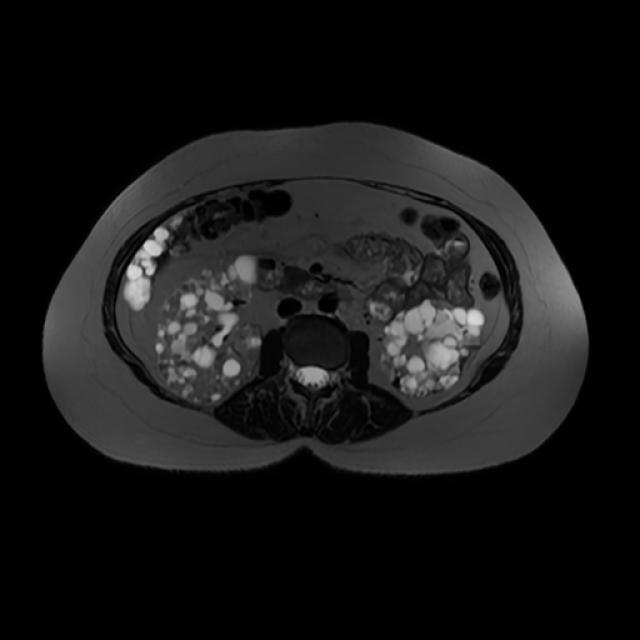sag: (158, 257, 258, 398)
sol: (385, 301, 481, 396)
